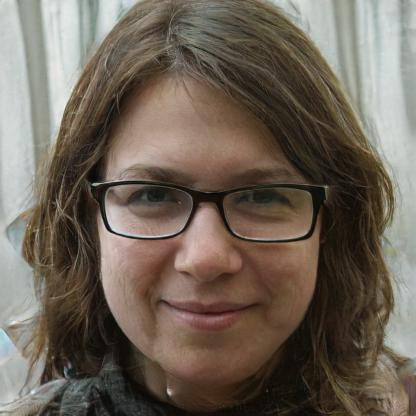glasses: (88, 174, 328, 252)
